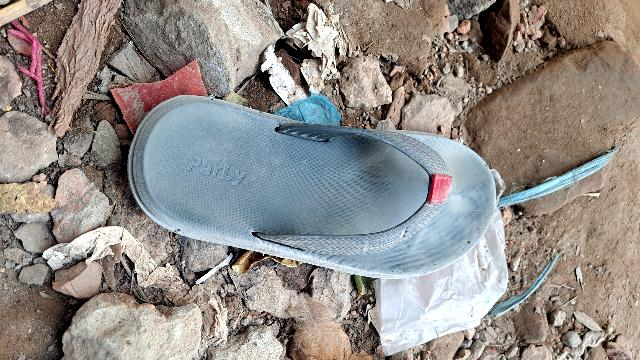sandal: (127, 84, 503, 307)
